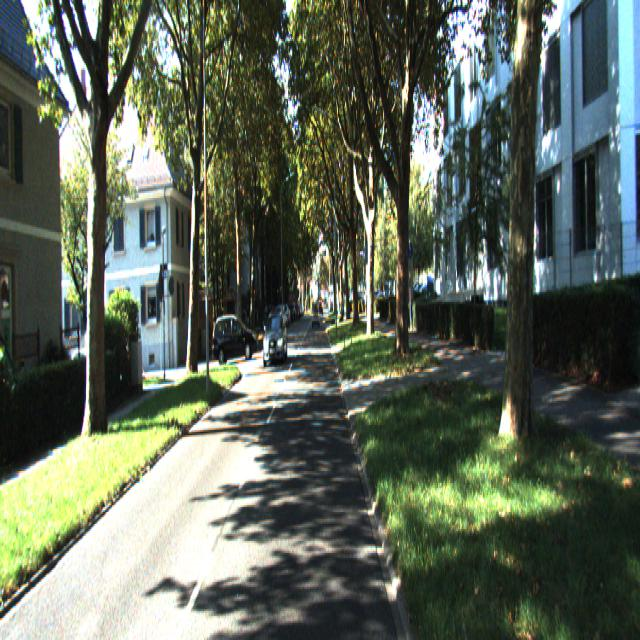Car: (212, 316, 259, 367), (262, 312, 288, 364)
